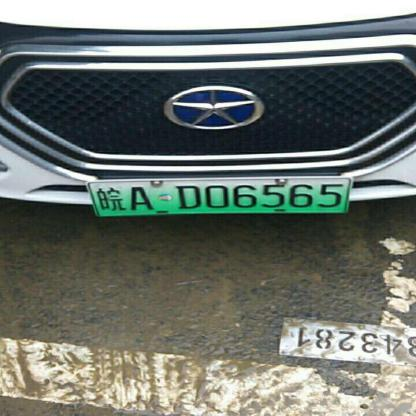lp: (89, 179, 348, 215)
